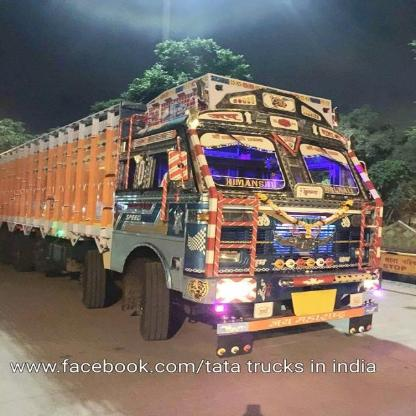truck: (3, 82, 383, 346)
